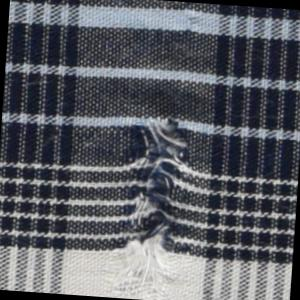Damage: (102, 108, 198, 300)
